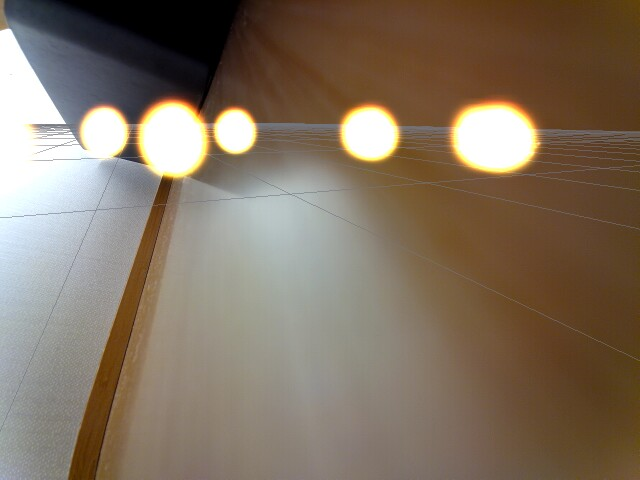fire: (450, 101, 542, 176), (337, 100, 400, 162)
